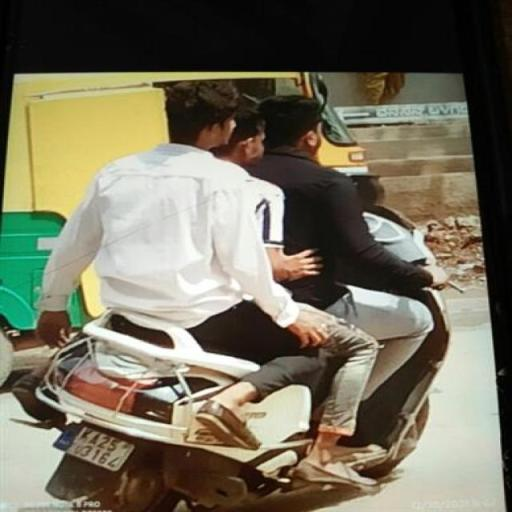tripple riding: (32, 77, 452, 306)
